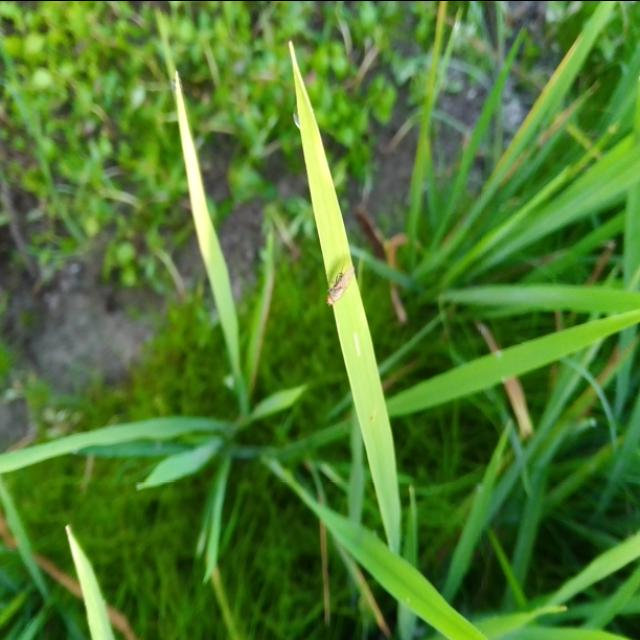Leaf scald: (306, 260, 364, 310)
